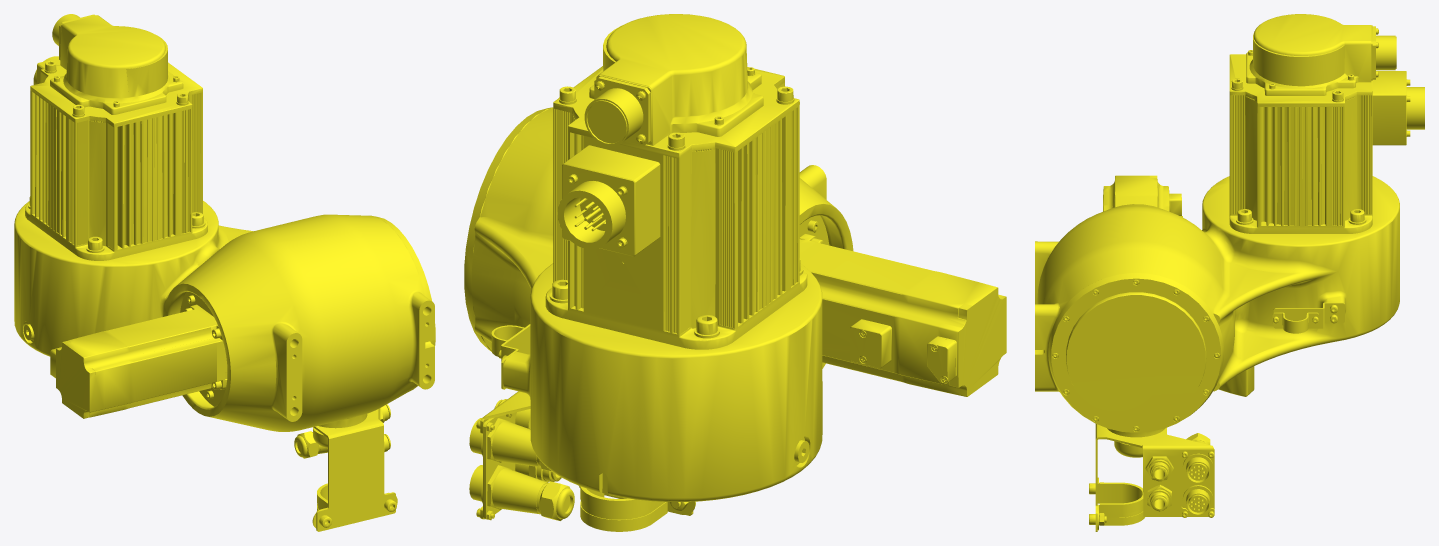
3 views of the same model, side by side, from view 1: azimuth 30°, elevation 25°; view 2: azimuth 150°, elevation 25°; view 3: azimuth 270°, elevation 25° (orthographic). The views are drawn at different scales.
Visible parts, largest first — view 1: /Link3/Link3_005-mesh/0; view 2: /Link3/Link3_005-mesh/0; view 3: /Link3/Link3_005-mesh/0.
Boxes of the visible parts, left/top/right/bottom form: /Link3/Link3_005-mesh/0: left=14, top=14, right=435, bottom=531; /Link3/Link3_005-mesh/0: left=464, top=14, right=1006, bottom=531; /Link3/Link3_005-mesh/0: left=1035, top=14, right=1424, bottom=531.
Size of the model in its own units: 0.3316 by 0.42 by 0.3546.
